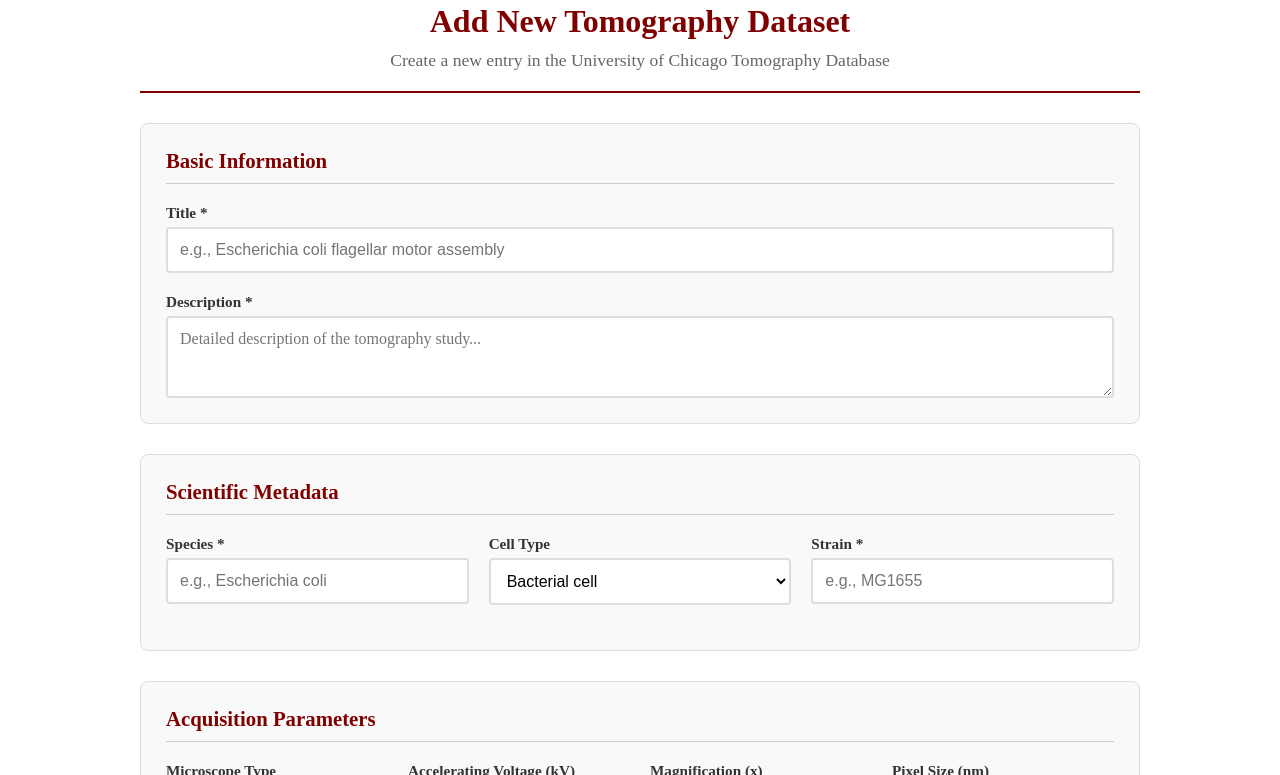
Scenario: AddDatasetForm › Form Submission › should show loading state during submission
Type "Test Dataset" into the field labelled "Title *". click: (640, 250)
box: x1=166 y1=227 x2=1114 y2=273
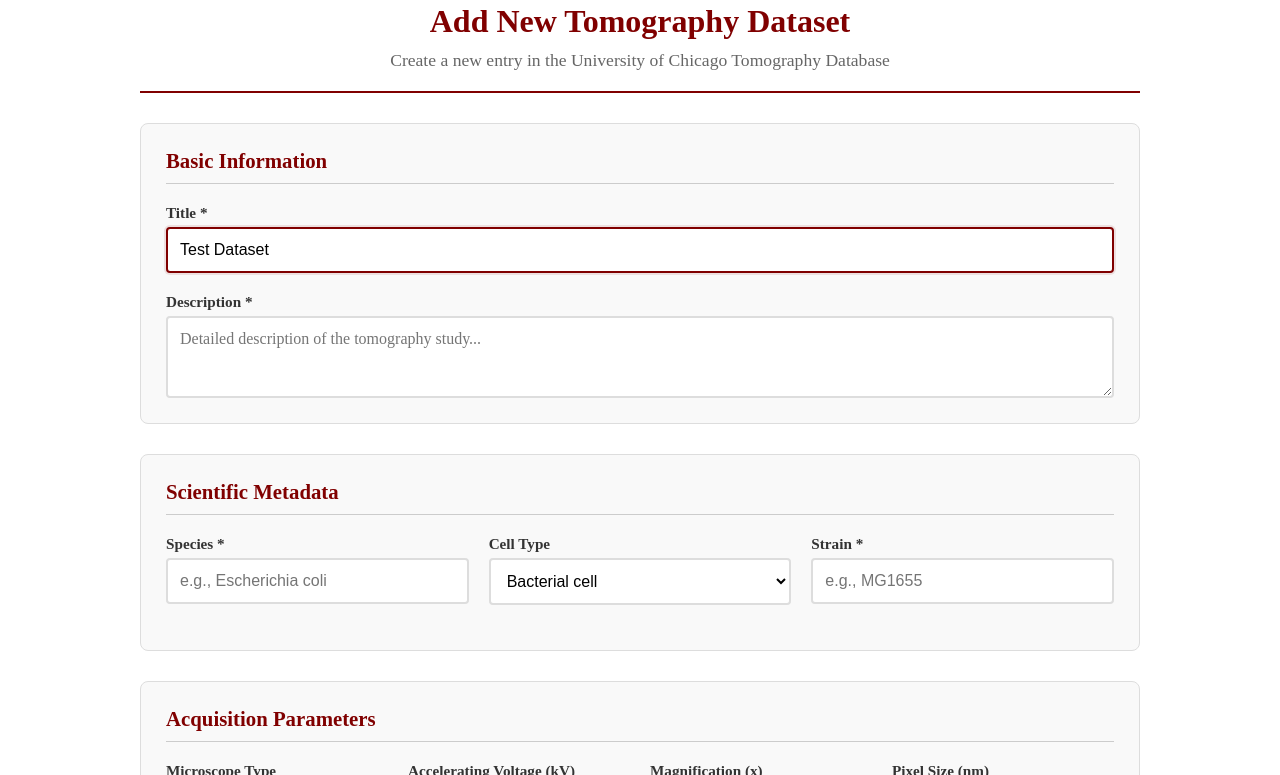
Type "Test description" into the text box labelled "Description *". click: (640, 357)
box: x1=166 y1=316 x2=1114 y2=398
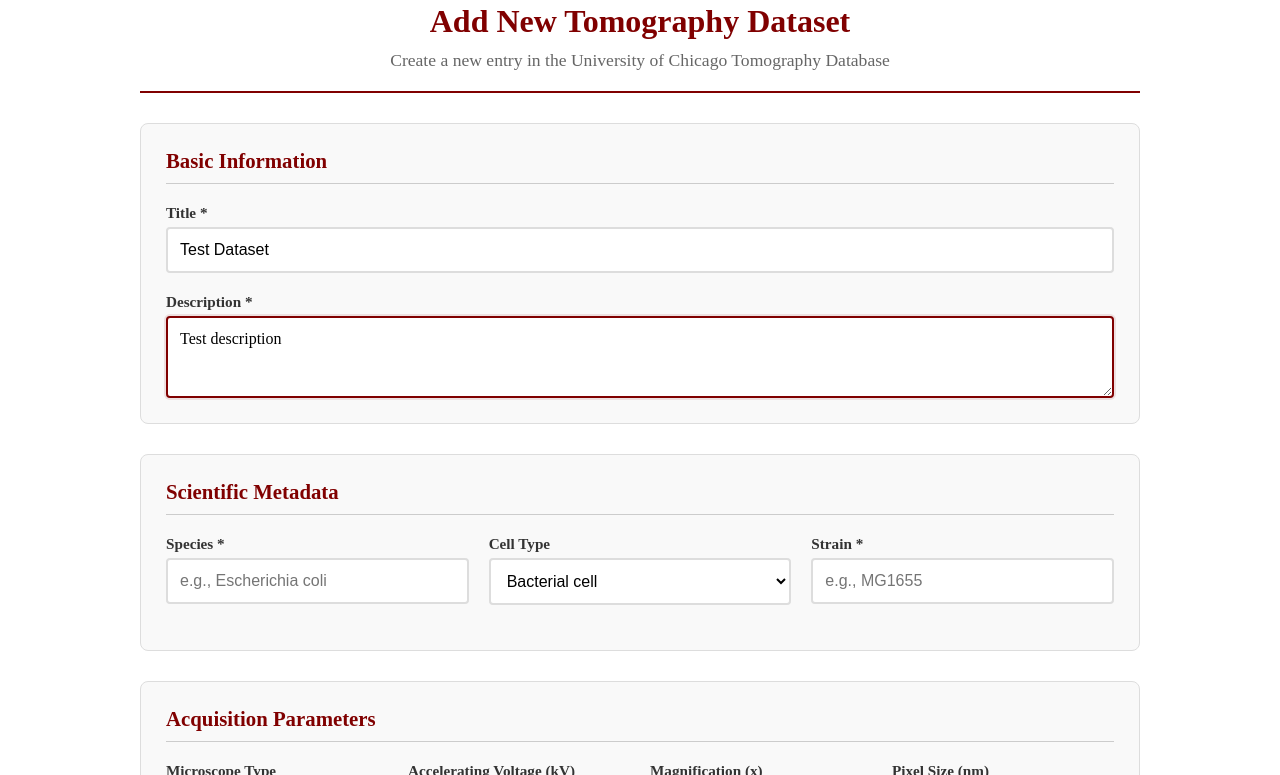
Type "E. coli" into the field labelled "Species *". click: (317, 581)
box: x1=166 y1=558 x2=469 y2=604
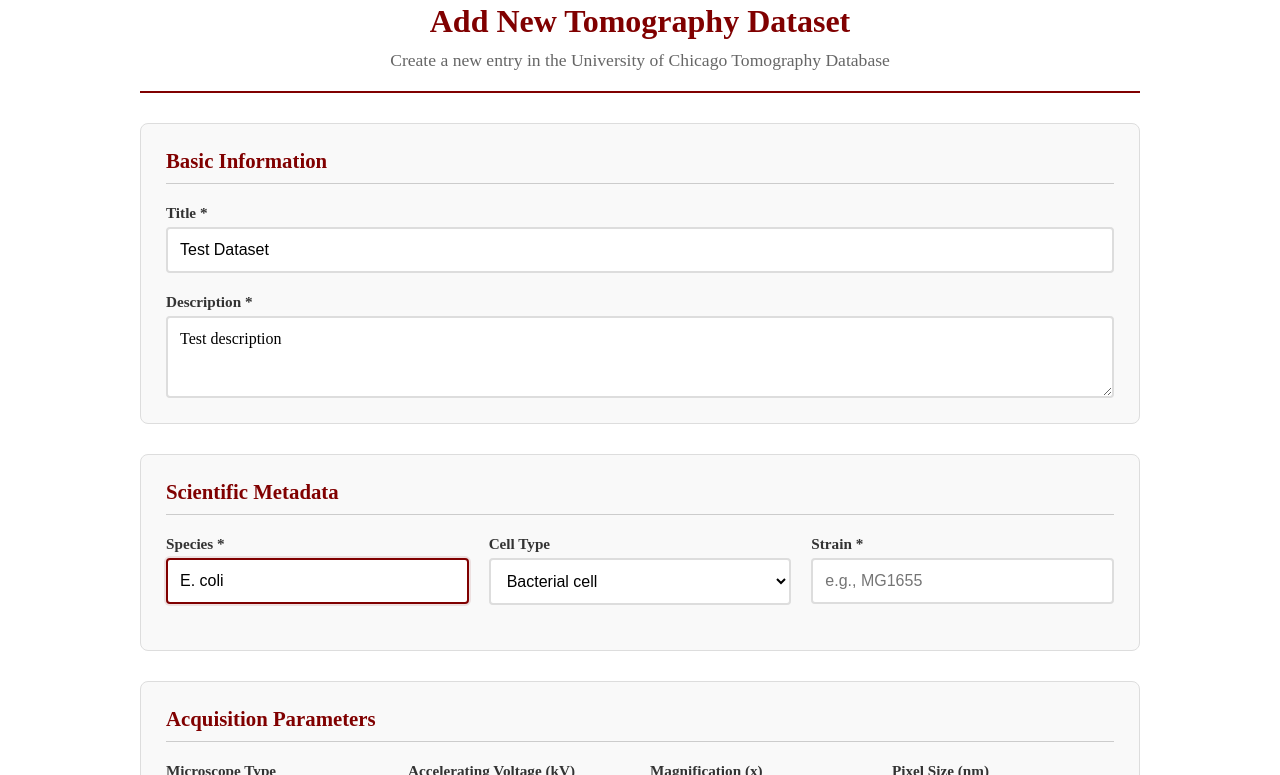
Type "MG1655" into the field labelled "Strain *". click: (963, 581)
box: x1=811 y1=558 x2=1114 y2=604
(page scrolled)
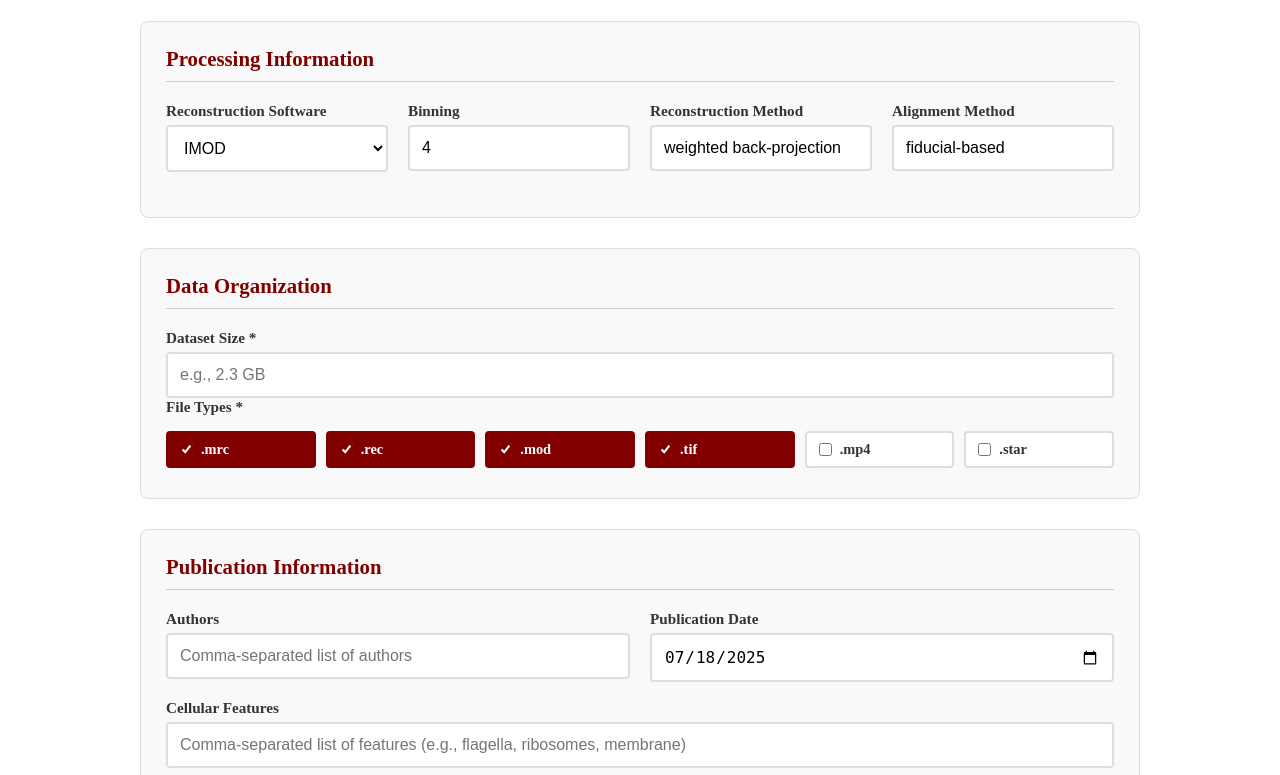
Type "2.5 GB" into the field labelled "Dataset Size *". click: (640, 375)
box: x1=166 y1=352 x2=1114 y2=398
(page scrolled)
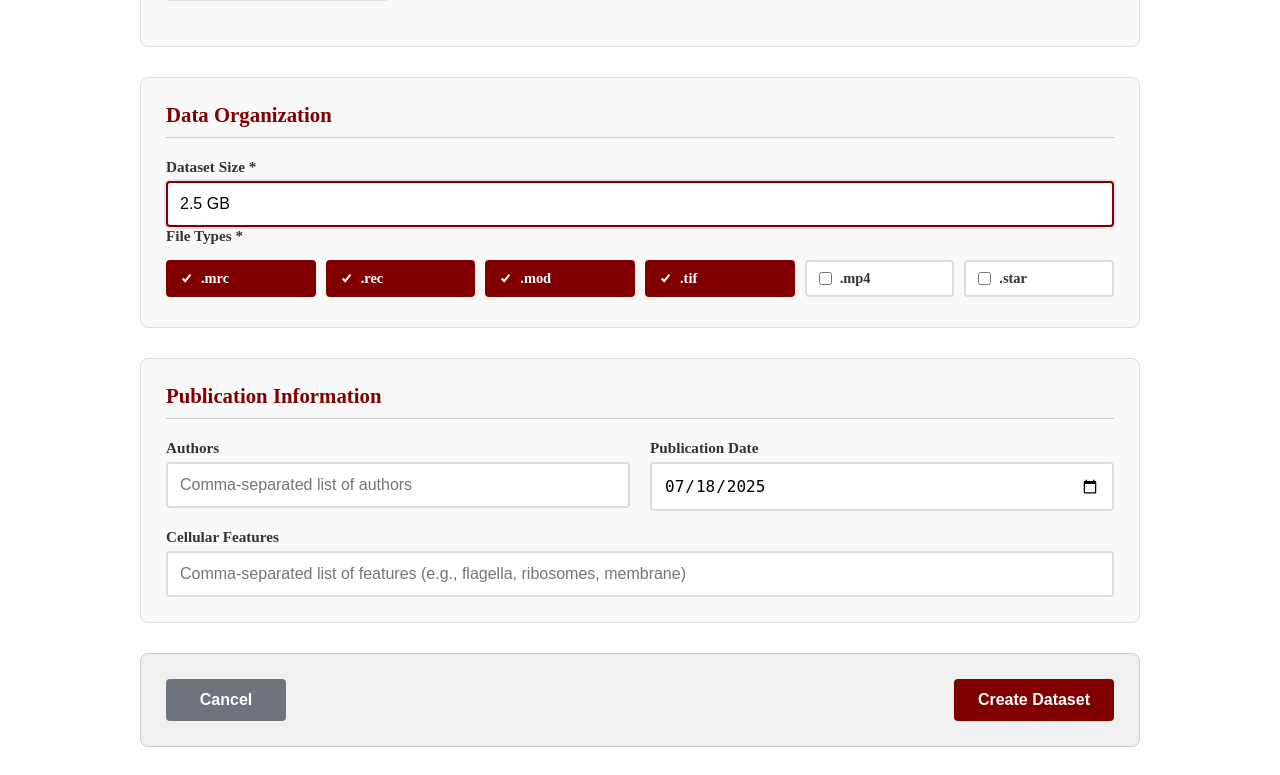
Click the button "Create Dataset". click: (1034, 700)
box: x1=954 y1=679 x2=1114 y2=721
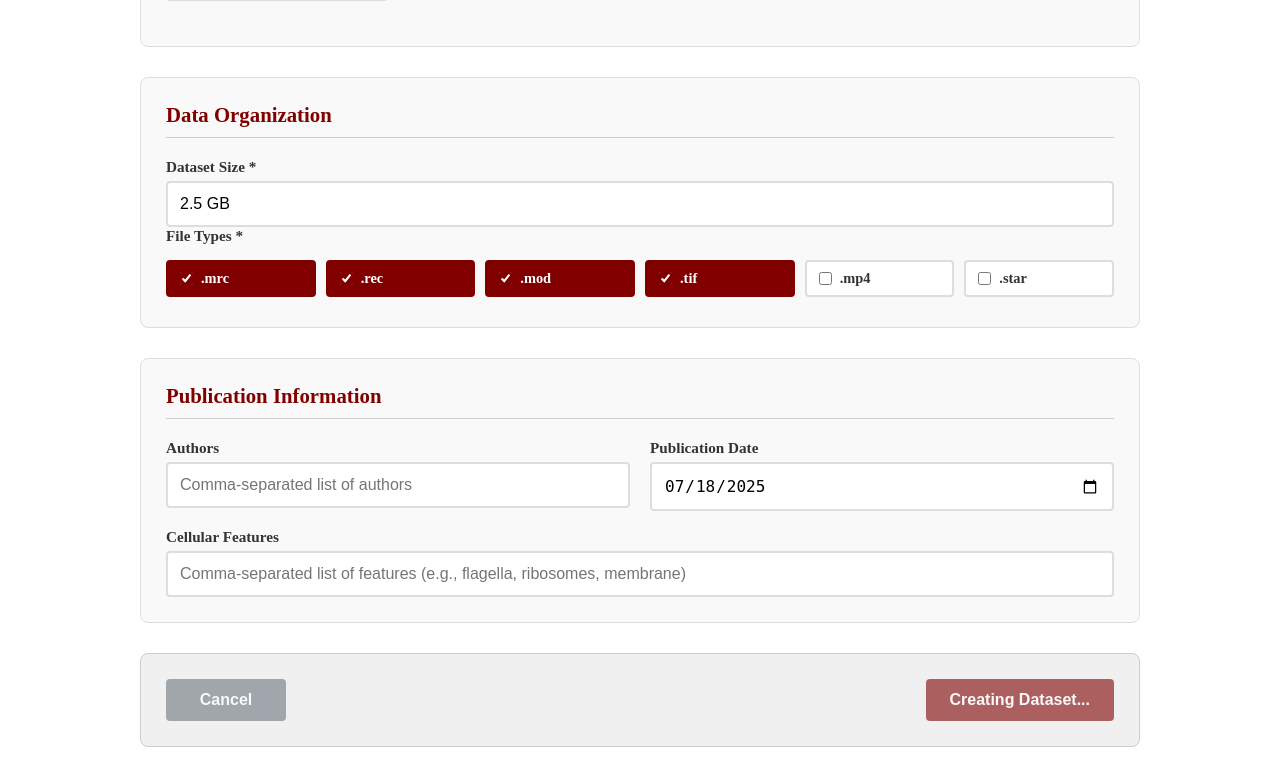
Check: the button "Creating Dataset..." is disabled, box x1=926 y1=679 x2=1114 y2=721
